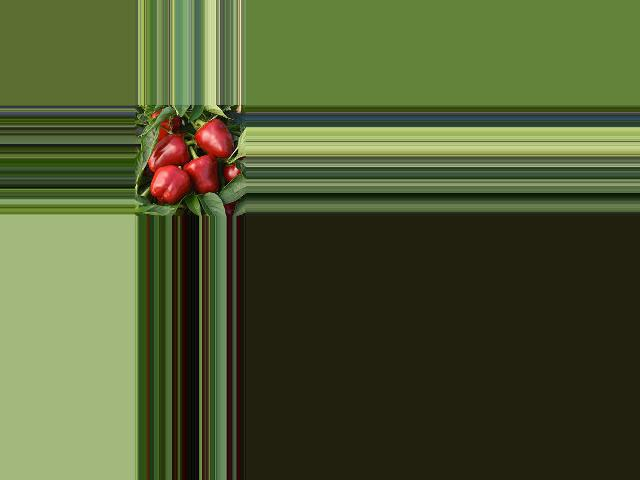bell_pepper: (146, 164, 199, 202)
